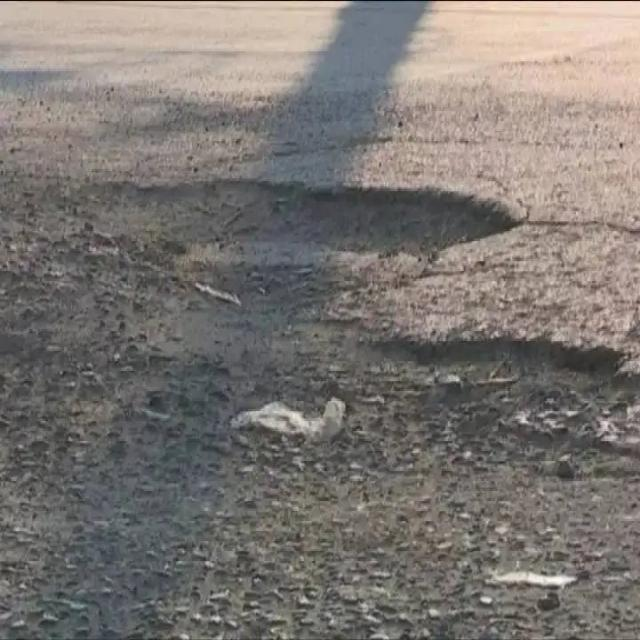Pothole: (17, 316, 639, 494), (13, 178, 524, 266)
